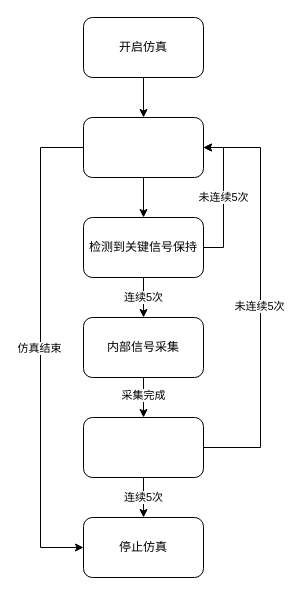
Some shapes in this 301 by 595 pixel diagram are drawn without their labels. Here are the shapes that lost their labels. From the top down, the centre of each, then its label:
At point (143, 147): "仿真监控".
At point (143, 447): "信号快照保持分析".
